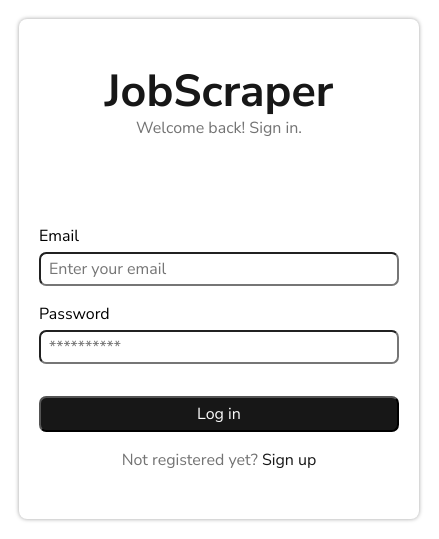
Test case: render LoginForm › should render errors if credentials are wrong
Type "test@abv.bg" into the field labelled "Email".
click(219, 269); type("test@abv.bg")  # box [39,252,399,286]
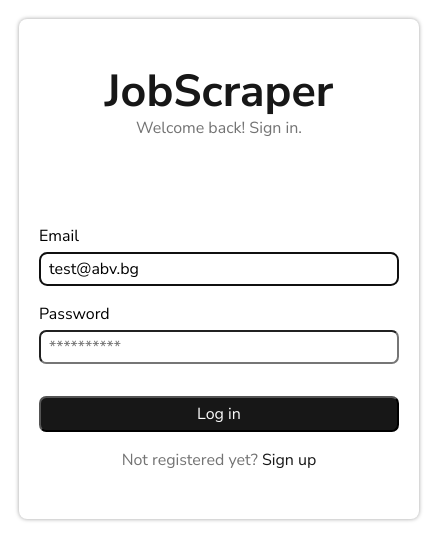
Type "12345678BG" into the password field labelled "Password".
click(219, 347); type("12345678BG")  # box [39,330,399,364]
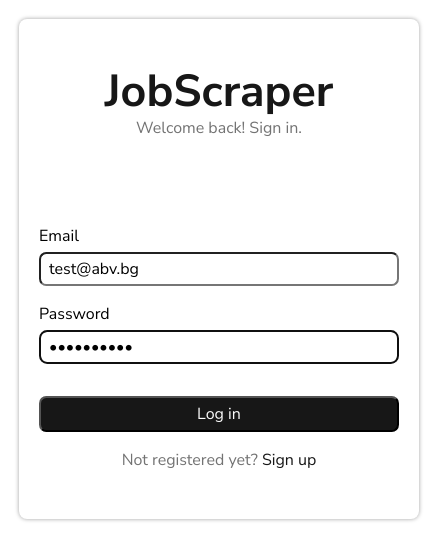
Click the button "Log in".
click(219, 414)  # box [39,396,399,432]
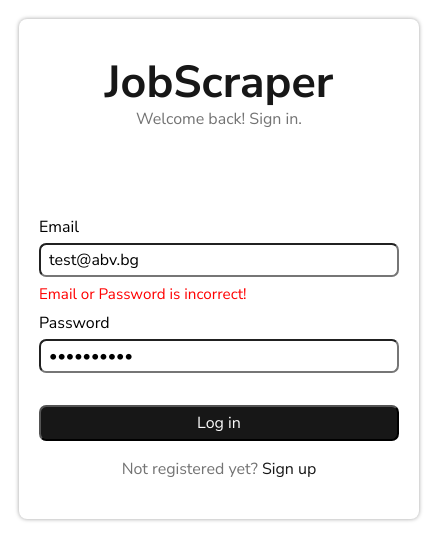
Now the text "Email or Password is incorrect!" is shown, box [39,284,246,304]
